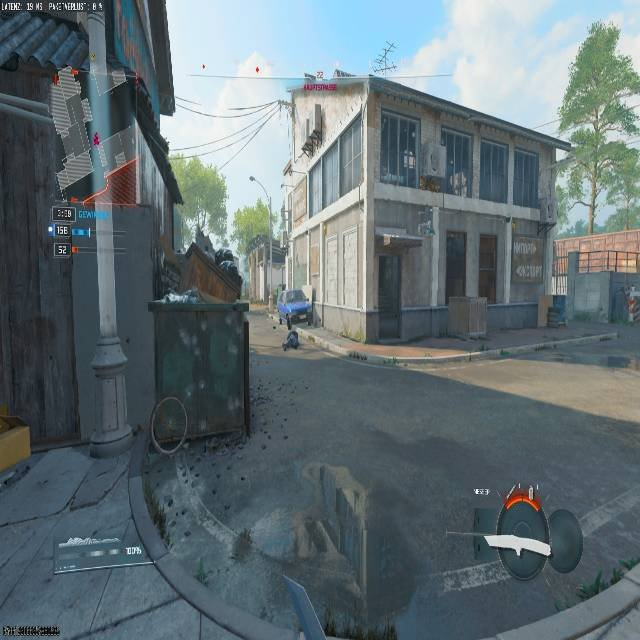player: (277, 285, 312, 351), (280, 320, 300, 351), (626, 294, 640, 325)
